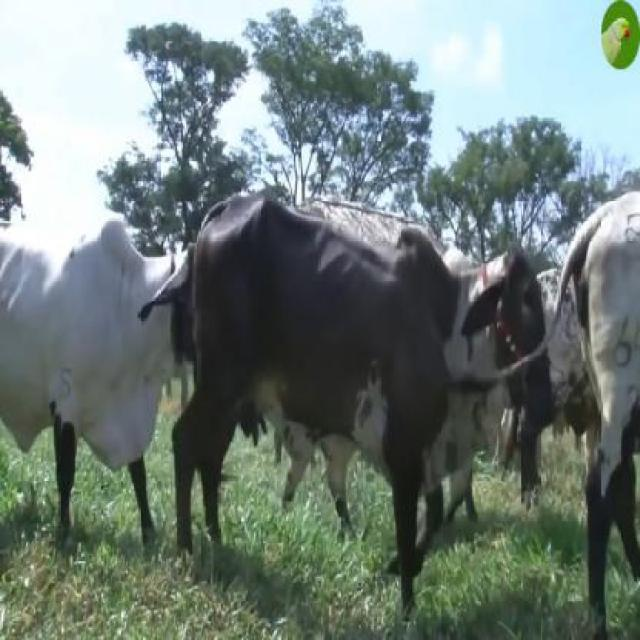Cow: (172, 189, 554, 603)
